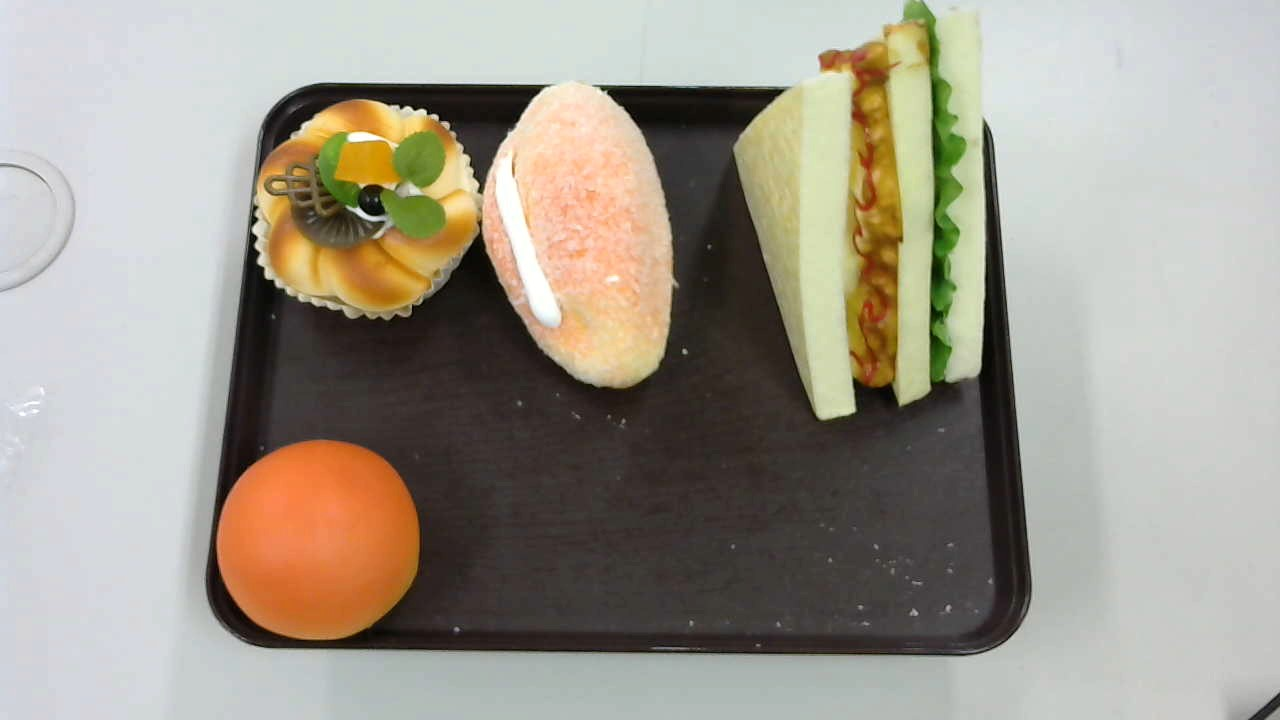bun: (215, 437, 420, 642)
coconut: (482, 82, 675, 389)
fruit tart: (250, 95, 483, 317)
sandwich: (732, 1, 986, 423)
